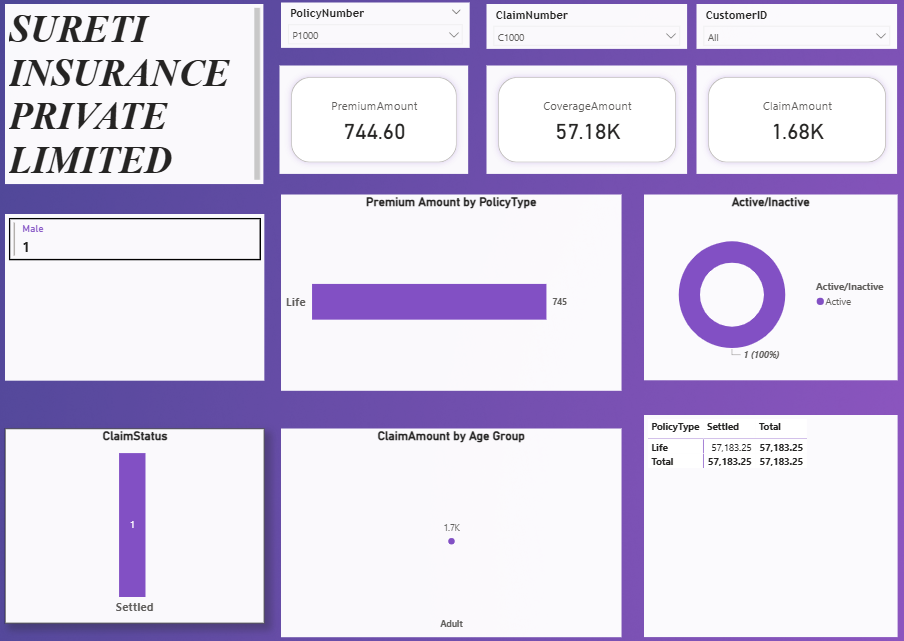

Layout of this report page (visuals, bound fields, positions):
{"tool":"powerbi","page":{"name":"Page 1","canvas":[1292,931],"ordinal":0},"visuals":[{"type":"slicer","fields":{"Values":["InsuranceData.PolicyNumber"]},"box":[405.3,18.7,263.3,63.5],"z":0},{"type":"slicer","fields":{"Values":["InsuranceData.ClaimNumber"]},"box":[693.5,20.8,279.7,62.4],"z":1000},{"type":"slicer","fields":{"Values":["InsuranceData.CustomerID"]},"box":[986.5,20.8,279.7,62.4],"z":2000},{"type":"textbox","box":[20.8,20.8,360.9,251.3],"z":3000},{"type":"cardVisual","fields":{"Data":["Sum(InsuranceData.PremiumAmount)"]},"box":[403.4,106.5,263.3,151.3],"z":4000},{"type":"cardVisual","fields":{"Data":["Sum(InsuranceData.CoverageAmount)"]},"box":[692.9,106.5,280.2,151.3],"z":5000},{"type":"cardVisual","fields":{"Data":["Sum(InsuranceData.ClaimAmount)"]},"box":[986.2,106.5,280.2,151.3],"z":6000},{"type":"multiRowCard","fields":{"Values":["InsuranceData.Gender","CountNonNull(InsuranceData.Gender)"]},"box":[19.9,294.6,362.2,195],"z":7000},{"type":"ribbonChart","title":"ClaimStatus","fields":{"Category":["InsuranceData.ClaimStatus"],"Y":["CountNonNull(InsuranceData.ClaimStatus)"]},"box":[20.9,613.5,362.2,272.2],"z":8000},{"type":"barChart","title":"Premium Amount by PolicyType","fields":{"Category":["InsuranceData.PolicyType"],"Y":["Sum(InsuranceData.PremiumAmount)"]},"box":[405.7,287.7,368.8,272.9],"z":9000},{"type":"lineChart","title":"ClaimAmount by Age Group","fields":{"Category":["InsuranceData.Age Group"],"Y":["Sum(InsuranceData.ClaimAmount)"]},"box":[406,613,354.3,272.7],"z":9001}]}

Visuals, with their boxes in screenshot pixels (x1, y1, x2, y2), scaled from the page's 1292x931 canvas onto the 904x641 screenshot:
slicer - InsuranceData.PolicyNumber: crop(284, 13, 468, 57)
slicer - InsuranceData.ClaimNumber: crop(485, 14, 681, 57)
slicer - InsuranceData.CustomerID: crop(690, 14, 886, 57)
textbox: crop(15, 14, 267, 187)
cardVisual - Sum(InsuranceData.PremiumAmount): crop(282, 73, 466, 177)
cardVisual - Sum(InsuranceData.CoverageAmount): crop(485, 73, 681, 177)
cardVisual - Sum(InsuranceData.ClaimAmount): crop(690, 73, 886, 177)
multiRowCard - InsuranceData.Gender x CountNonNull(InsuranceData.Gender): crop(14, 203, 267, 337)
"ClaimStatus" ribbonChart: crop(15, 422, 268, 610)
"Premium Amount by PolicyType" barChart: crop(284, 198, 542, 386)
"ClaimAmount by Age Group" lineChart: crop(284, 422, 532, 610)
